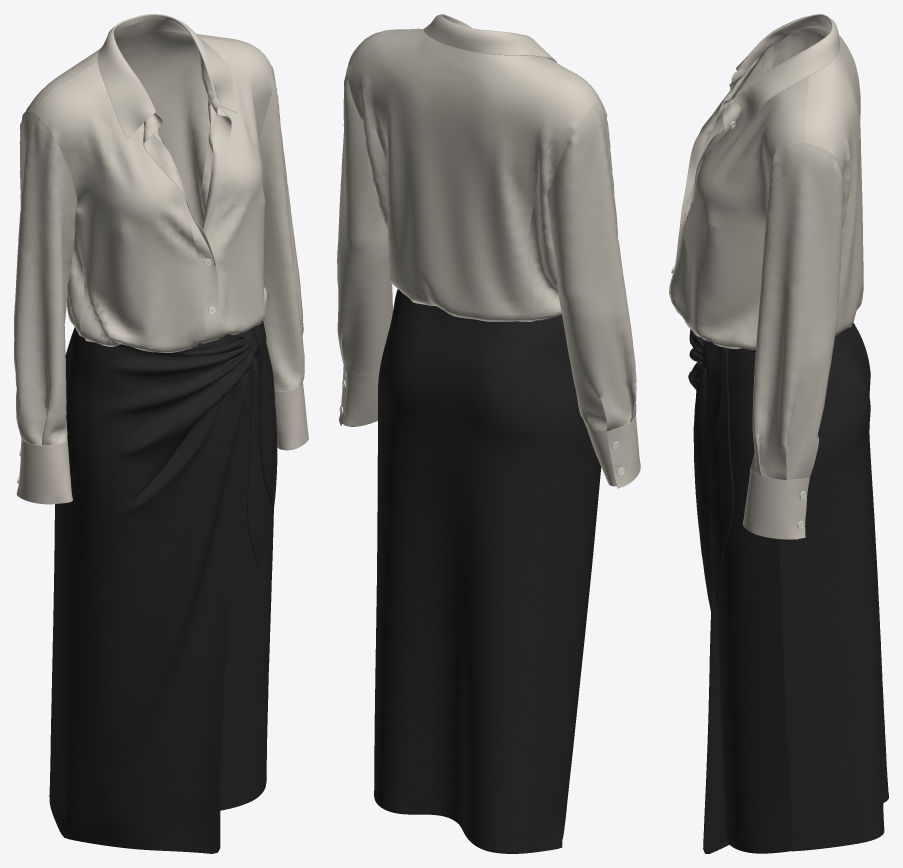
File: white_shirt_black_leather_skirt_outfit.glb
3 views of the same model, side by side, from view 1: azimuth 30°, elevation 25°; view 2: azimuth 150°, elevation 25°; view 3: azimuth 270°, elevation 25° (orthographic). The views are drawn at different scales.
Visible parts, largest first — view 1: Object_3, Object_8, Object_4, Object_9, Object_7, Object_5, Object_10, Object_6, Object_11; view 2: Object_11, Object_10, Object_4, Object_7, Object_6, Object_3, Object_8; view 3: Object_11, Object_7, Object_5, Object_9, Object_10, Object_6, Object_3, Object_8, Object_4.
Part boxes in pixels (x1,y1,x2,y2): Object_3: [65, 333, 253, 849]; Object_8: [34, 61, 276, 837]; Object_4: [14, 105, 231, 445]; Object_9: [64, 38, 277, 853]; Object_7: [16, 65, 308, 504]; Object_5: [220, 333, 274, 806]; Object_10: [23, 29, 252, 336]; Object_6: [97, 14, 236, 343]; Object_11: [49, 327, 86, 833]; Object_11: [374, 289, 593, 849]; Object_10: [347, 30, 592, 321]; Object_4: [547, 103, 636, 431]; Object_7: [337, 57, 640, 488]; Object_6: [423, 14, 556, 62]; Object_3: [562, 448, 601, 839]; Object_8: [374, 55, 603, 853]; Object_11: [778, 322, 888, 847]; Object_7: [700, 142, 843, 539]; Object_5: [717, 386, 791, 850]; Object_9: [670, 76, 808, 853]; Object_10: [804, 28, 863, 335]; Object_6: [669, 14, 839, 298]; Object_3: [688, 329, 727, 849]; Object_8: [673, 28, 888, 851]; Object_4: [671, 30, 824, 285].
Size of the model in its own units: 487 by 1287 by 313.
Materials: 2 (1 with a texture image).
